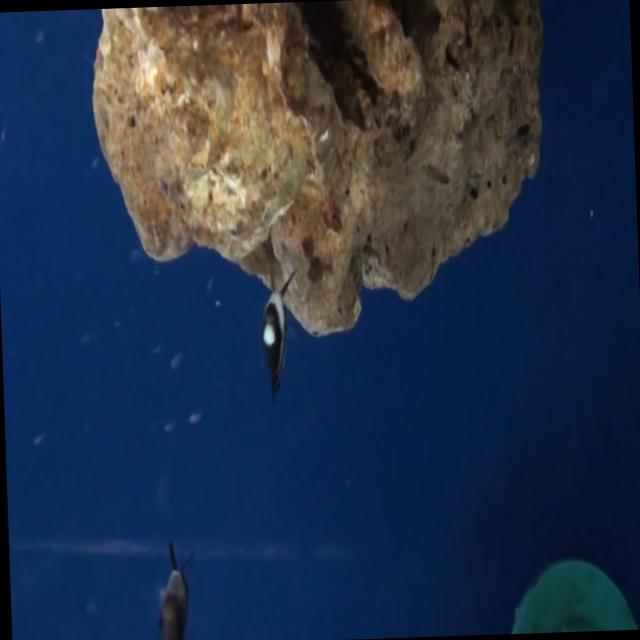ThreeStripedDamselfish: (253, 258, 298, 414)
